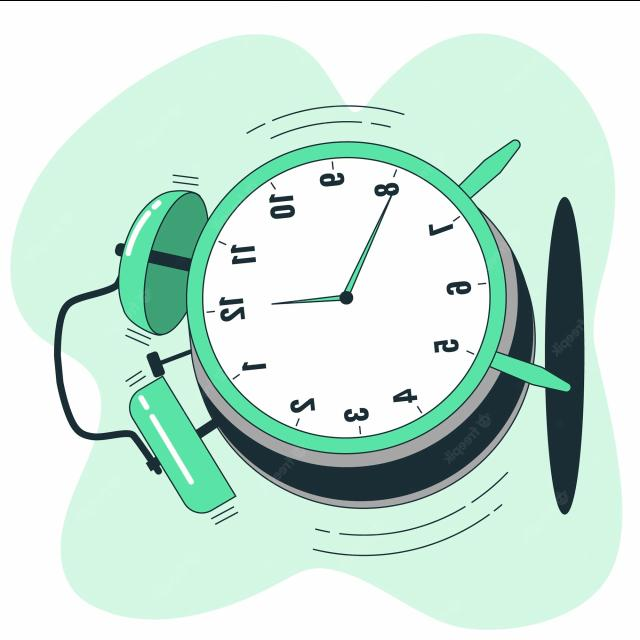clock: (78, 92, 582, 578)
